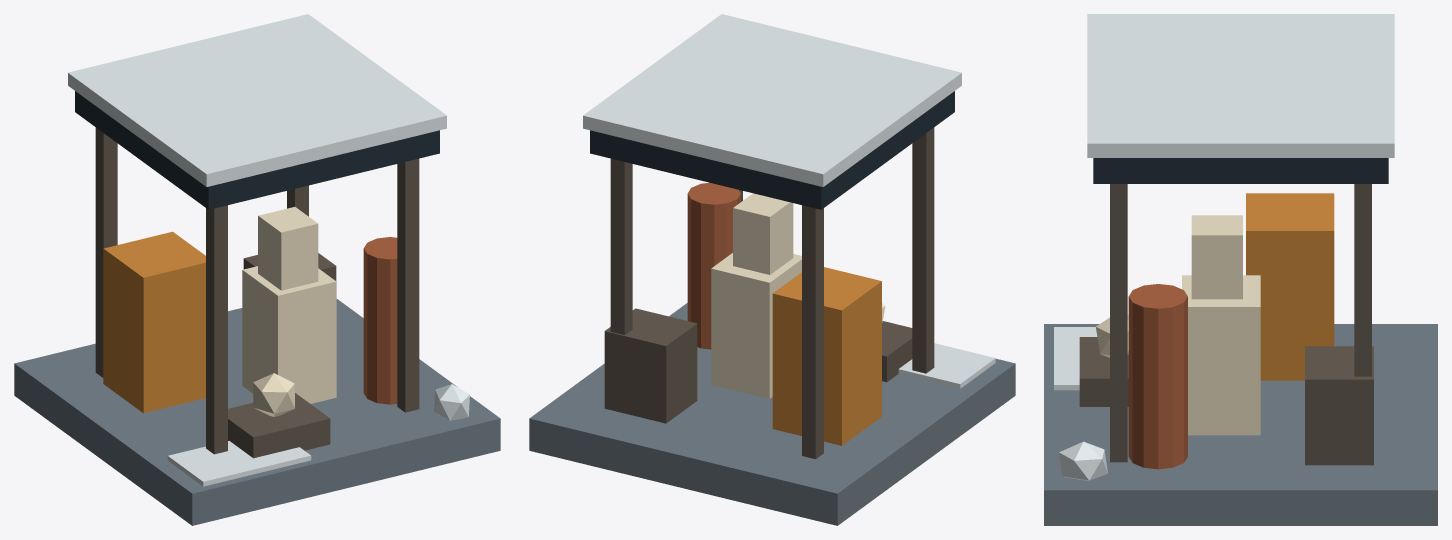
File: depot.glb
The picture shows the model from 3 angles, left to right: view 1: azimuth 30°, elevation 25°; view 2: azimuth 150°, elevation 25°; view 3: azimuth 270°, elevation 25°; orthographic projection. The views are drawn at different scales.
Parts seen in each view (by area): view 1: depot; view 2: depot; view 3: depot.
Part boxes in pixels (box(x1,y1,x2,y2)): depot: box(14, 14, 500, 525); depot: box(529, 14, 1015, 525); depot: box(1044, 14, 1437, 525).
Bounding box in the file's own units: 1 × 1.02 × 1.
1 material, 1 textured.
